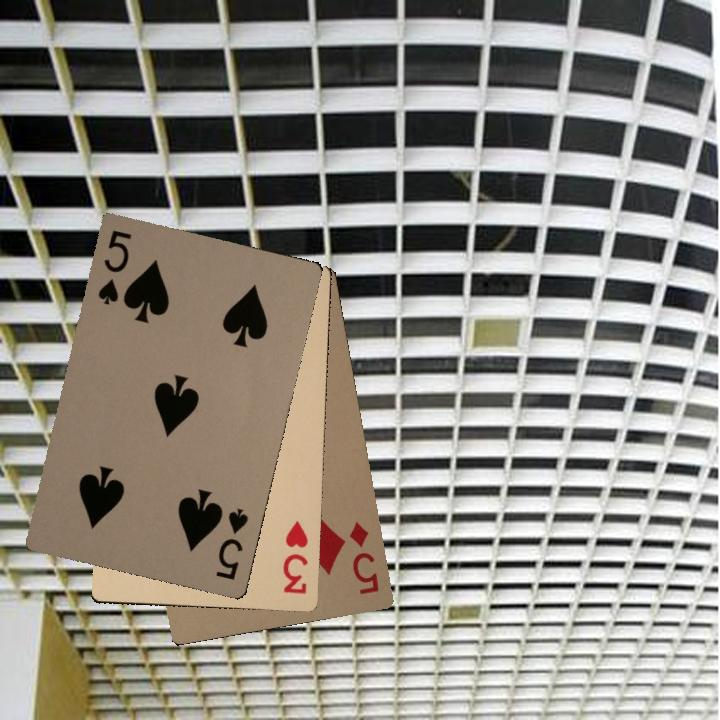3h: (279, 517, 311, 596)
5d: (345, 518, 382, 597)
5s: (94, 226, 134, 307), (212, 504, 251, 582)
